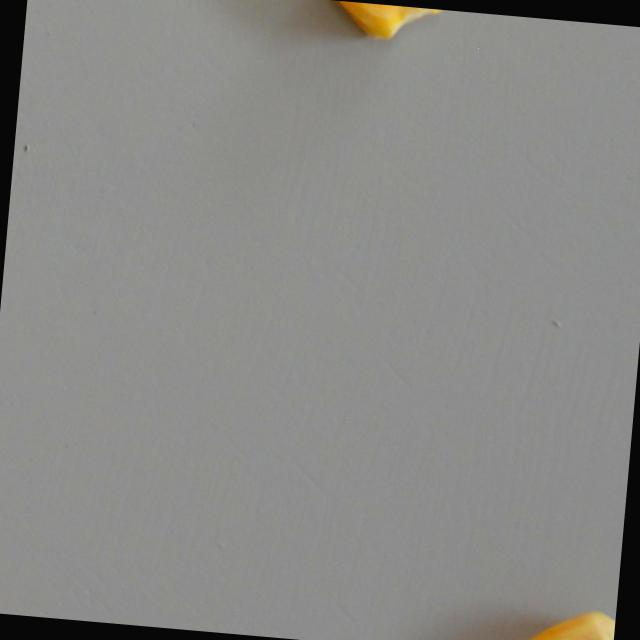entero: (482, 596, 616, 640)
no_canjicado: (317, 0, 442, 47)
